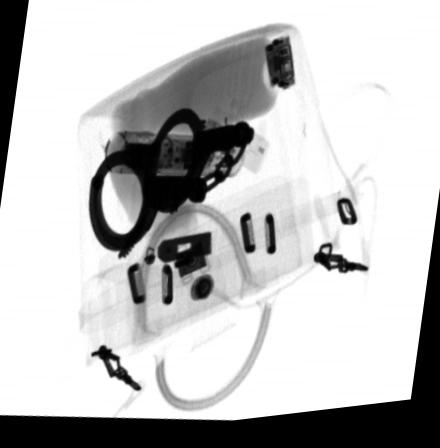Baton: (105, 133, 246, 182)
HandCuffs: (87, 108, 256, 260)
Lighter: (204, 109, 273, 182)
